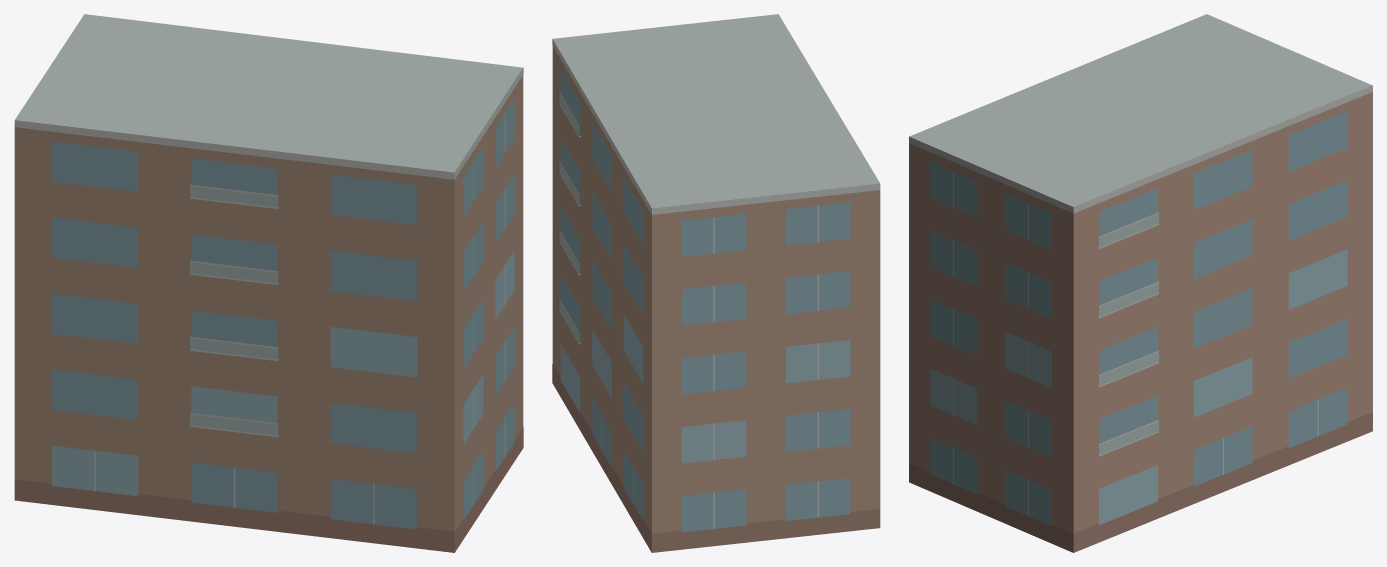
File: survey-upis-32885063.glb
3 renders of one model, left to right at view 1: azimuth 30°, elevation 25°; view 2: azimuth 150°, elevation 25°; view 3: azimuth 270°, elevation 25°, orthographic. The views are drawn at different scales.
Visible parts, largest first — view 1: survey-upis-32885063.tmp; view 2: survey-upis-32885063.tmp; view 3: survey-upis-32885063.tmp.
Boxes of the visible parts, bbox=[...] form: survey-upis-32885063.tmp: bbox=[14, 14, 523, 552]; survey-upis-32885063.tmp: bbox=[552, 14, 880, 552]; survey-upis-32885063.tmp: bbox=[909, 14, 1372, 552].
Bounding box in the file's own units: 15.7 × 13.1 × 15.93.
